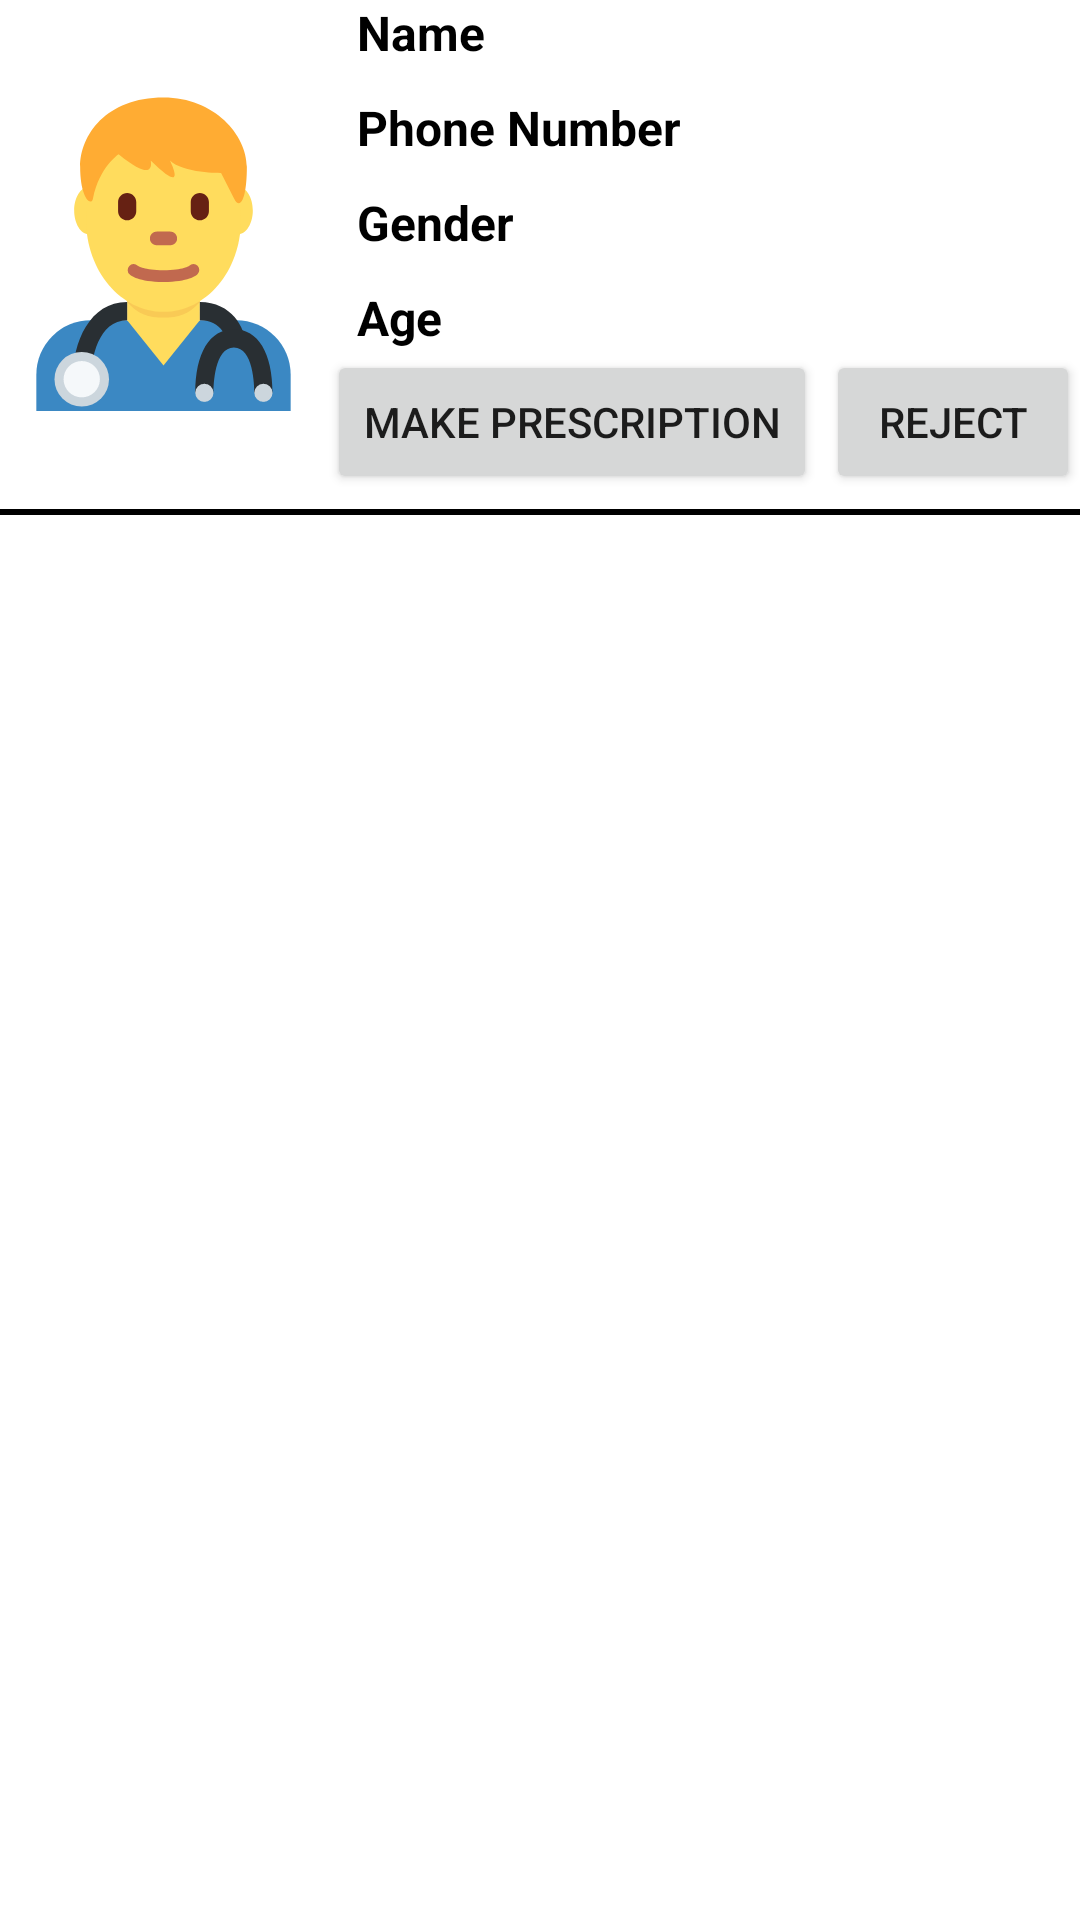

Icon bounding boxes for this 1080 x 1920 phone screenshot, format Rect(x1, y1, x2, y2):
man health worker: Rect(36, 97, 291, 411)
